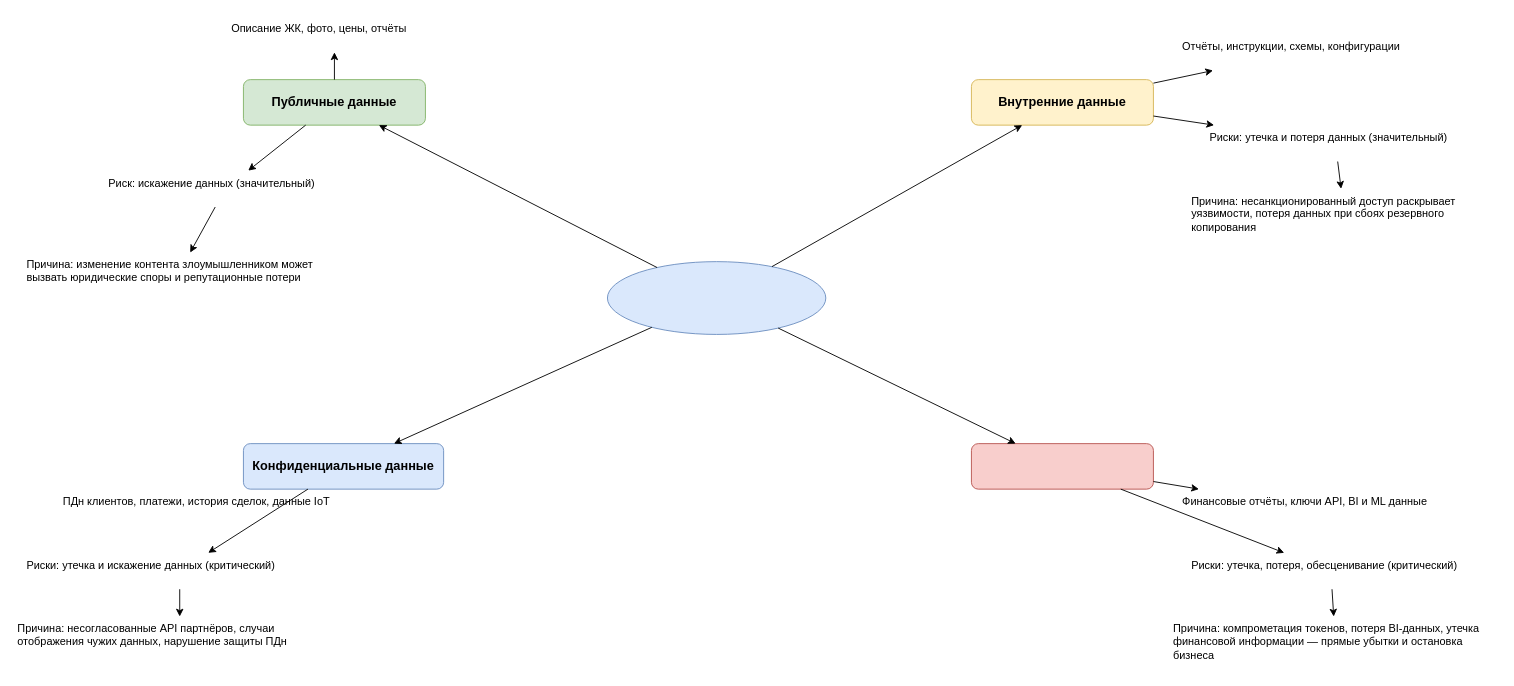
Some shapes in this 1514 by 686 pixel diagram are drawn without their labels. The shapes that lost their labels are listed below. From the top down, each one's centre as x and y in pixels, then its label:
(x=716, y=297): Безопасность данных
(x=1062, y=466): Секретные данные
